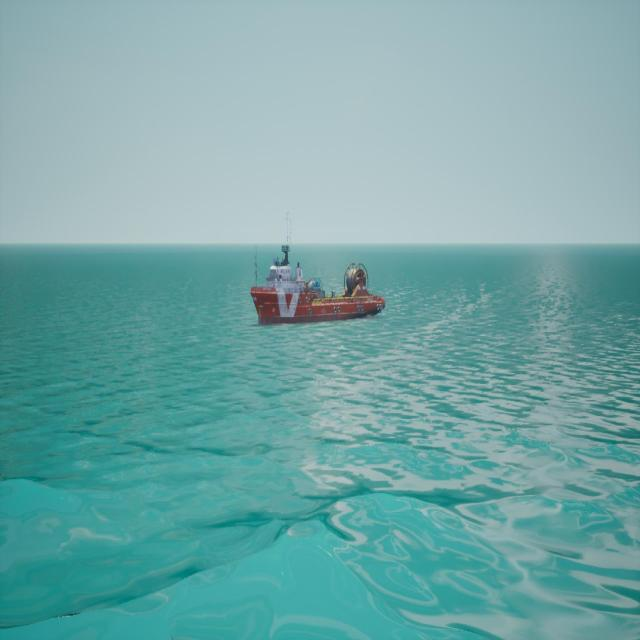tug boat: (251, 213, 385, 329)
